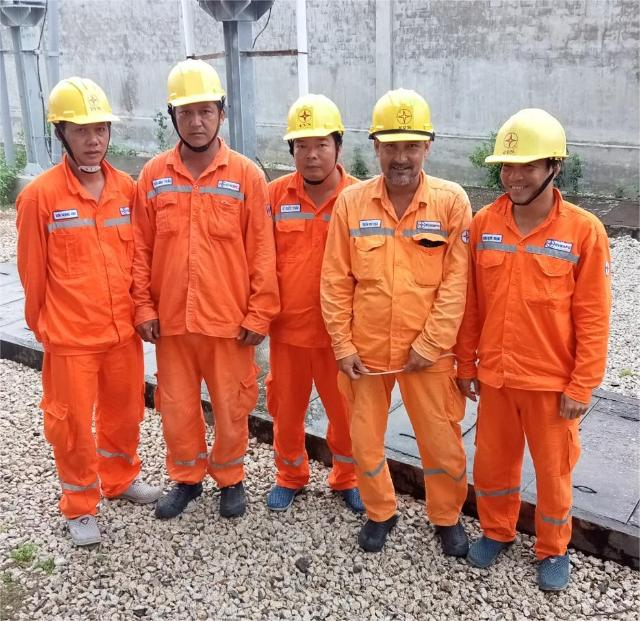helmet: (484, 108, 586, 173), (354, 91, 449, 156), (21, 74, 124, 128), (264, 92, 358, 144), (143, 56, 244, 104)
shoes: (145, 463, 209, 541), (348, 498, 408, 573), (200, 448, 259, 523), (255, 450, 317, 520), (525, 529, 588, 596), (46, 491, 108, 548), (421, 505, 470, 566), (324, 460, 380, 512), (97, 469, 169, 506), (479, 513, 511, 581)
